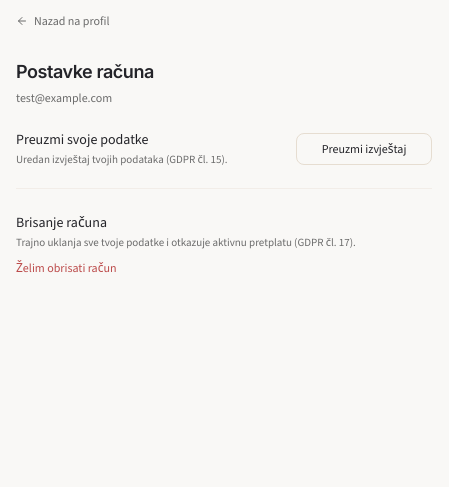
Test case: MojiPodaci — delete confirmation gating › accepts lowercase obriši and normalizes to uppercase
The image size is (449, 487).
Step 1. Click the button "Želim obrisati račun" → (66, 268), box [16,260,116,276]
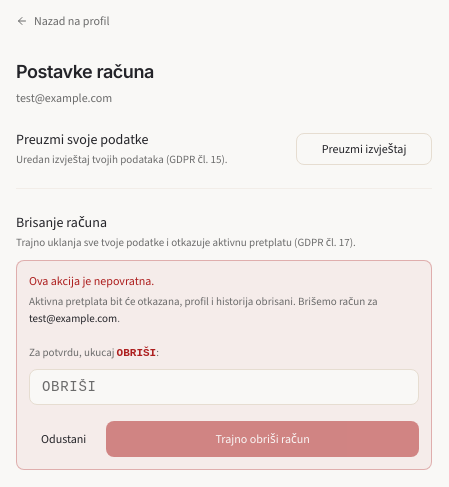
Step 2. Type "obriši" into the field labelled "Za potvrdu, ukucaj OBRIŠI:" → (224, 387), box [29,369,419,405]
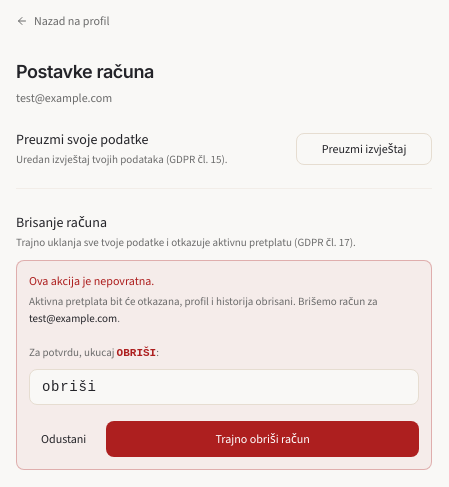
Now the button "Trajno obriši račun" is enabled, box [106,421,419,457]
